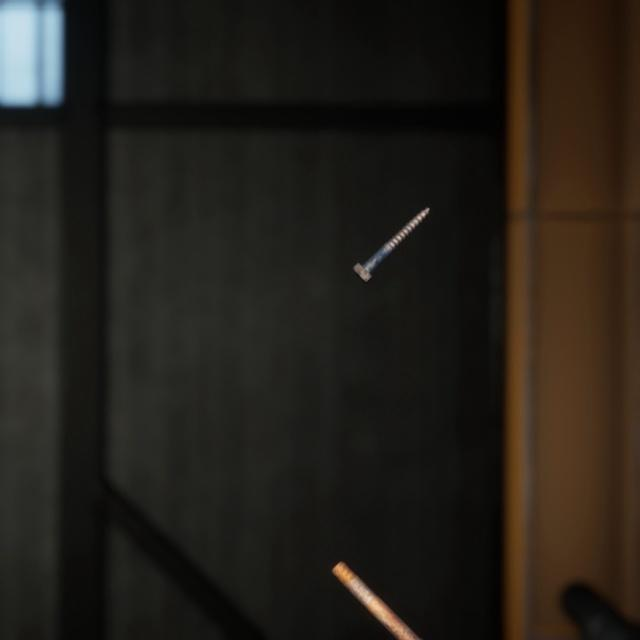bolt: (327, 534, 448, 640), (348, 188, 435, 272)
